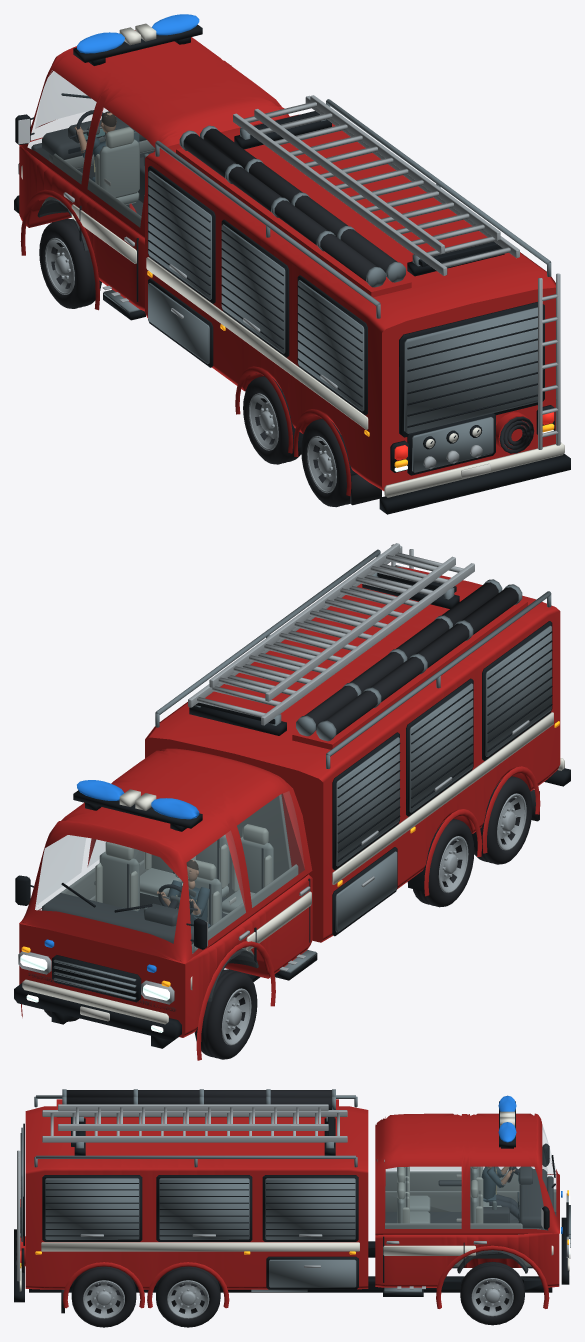
The model's file is firetruck.glb.
3 views of the same model, one above another, from view 1: azimuth 30°, elevation 25°; view 2: azimuth 150°, elevation 25°; view 3: azimuth 270°, elevation 25° (orthographic). The views are drawn at different scales.
Parts seen in each view (by area): view 1: body_fixed, brushed_work_steel, dark_chassis, bright_alloy, traffic_cab_glass, tire_rubber.006, rescue_white, special_cabin_finish.002, tire_rubber, tire_rubber.002, tire_rubber.004, blue_rescue_lamp (+3 smaller); view 2: body_fixed, brushed_work_steel, traffic_cab_glass, dark_chassis, bright_alloy, special_cabin_finish.002, tire_rubber.006, rescue_white, tire_rubber, tire_rubber.002, tire_rubber.004, blue_rescue_lamp (+4 smaller); view 3: body_fixed, brushed_work_steel, dark_chassis, bright_alloy, special_cabin_finish.002, traffic_cab_glass, rescue_white, tire_rubber.006, tire_rubber.001, tire_rubber.005, tire_rubber.003, satin_wheel_steel.003 (+3 smaller).
Part boxes in pixels (x1,y1,x2,y2): body_fixed: [19, 30, 555, 496]; brushed_work_steel: [103, 99, 551, 472]; dark_chassis: [14, 24, 570, 514]; bright_alloy: [18, 95, 560, 469]; traffic_cab_glass: [28, 70, 154, 226]; tire_rubber.006: [183, 128, 534, 505]; rescue_white: [21, 23, 564, 497]; special_cabin_finish.002: [31, 116, 154, 250]; tire_rubber: [39, 218, 101, 308]; tire_rubber.002: [243, 376, 301, 464]; tire_rubber.004: [301, 418, 349, 507]; blue_rescue_lamp: [77, 14, 199, 53]; body_fixed: [19, 566, 560, 1060]; brushed_work_steel: [53, 549, 551, 999]; traffic_cab_glass: [35, 791, 304, 952]; dark_chassis: [14, 573, 570, 1048]; bright_alloy: [18, 543, 529, 1004]; special_cabin_finish.002: [28, 794, 298, 1011]; tire_rubber.006: [304, 582, 539, 821]; rescue_white: [22, 712, 564, 1024]; tire_rubber: [194, 969, 257, 1059]; tire_rubber.002: [413, 818, 474, 907]; tire_rubber.004: [474, 776, 532, 864]; blue_rescue_lamp: [44, 780, 199, 972]; body_fixed: [20, 1099, 559, 1308]; brushed_work_steel: [21, 1089, 570, 1292]; dark_chassis: [14, 1101, 569, 1302]; bright_alloy: [17, 1104, 568, 1289]; special_cabin_finish.002: [376, 1159, 556, 1273]; traffic_cab_glass: [385, 1125, 555, 1229]; rescue_white: [19, 1111, 569, 1291]; tire_rubber.006: [16, 1090, 331, 1313]; tire_rubber.001: [460, 1261, 524, 1325]; tire_rubber.005: [71, 1266, 136, 1327]; tire_rubber.003: [156, 1266, 220, 1327]; satin_wheel_steel.003: [167, 1280, 209, 1318].
Bounding box in the file's own units: 2.49 × 3.22 × 8.6.
